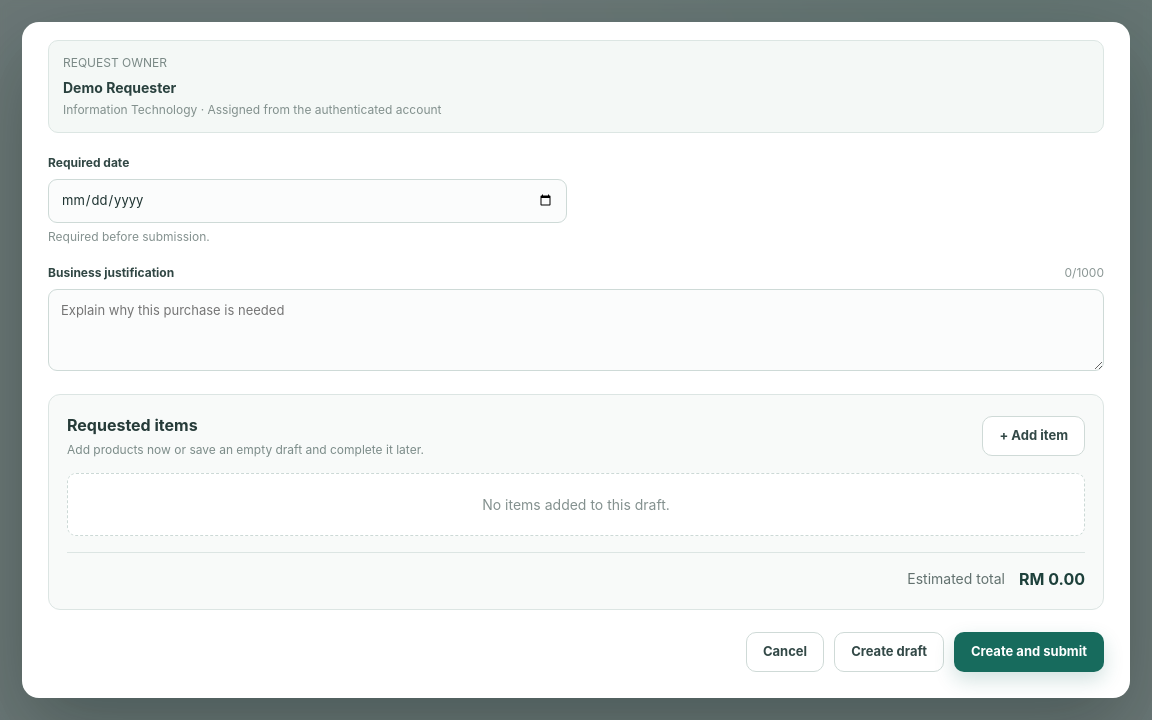
Test: PurchaseRequestForm › does not fast-submit an incomplete draft
(page scrolled)
Click the button "Create and submit": (1029, 652) [954,632,1104,672]
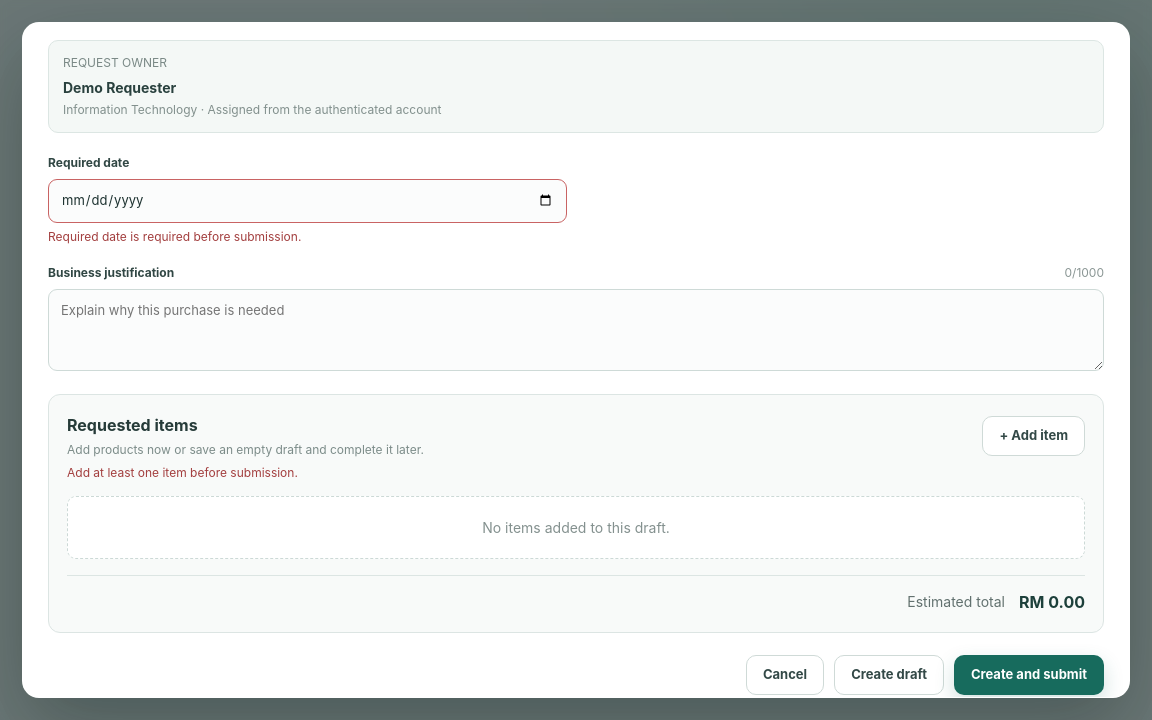
Result: the text "Required date is required before submission." is shown at [48,228,301,244]
Result: the text "Add at least one item before submission." is shown at [67,465,298,480]
